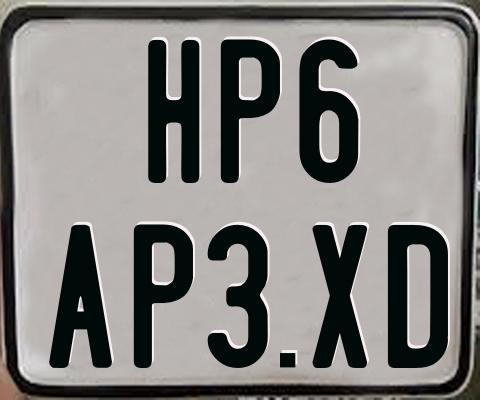3: (204, 225, 269, 372)
6: (296, 39, 360, 188)
A: (46, 225, 111, 373)
D: (386, 225, 447, 369)
H: (147, 38, 202, 181)
P: (221, 36, 284, 180), (132, 221, 193, 368)
X: (311, 224, 369, 372)
